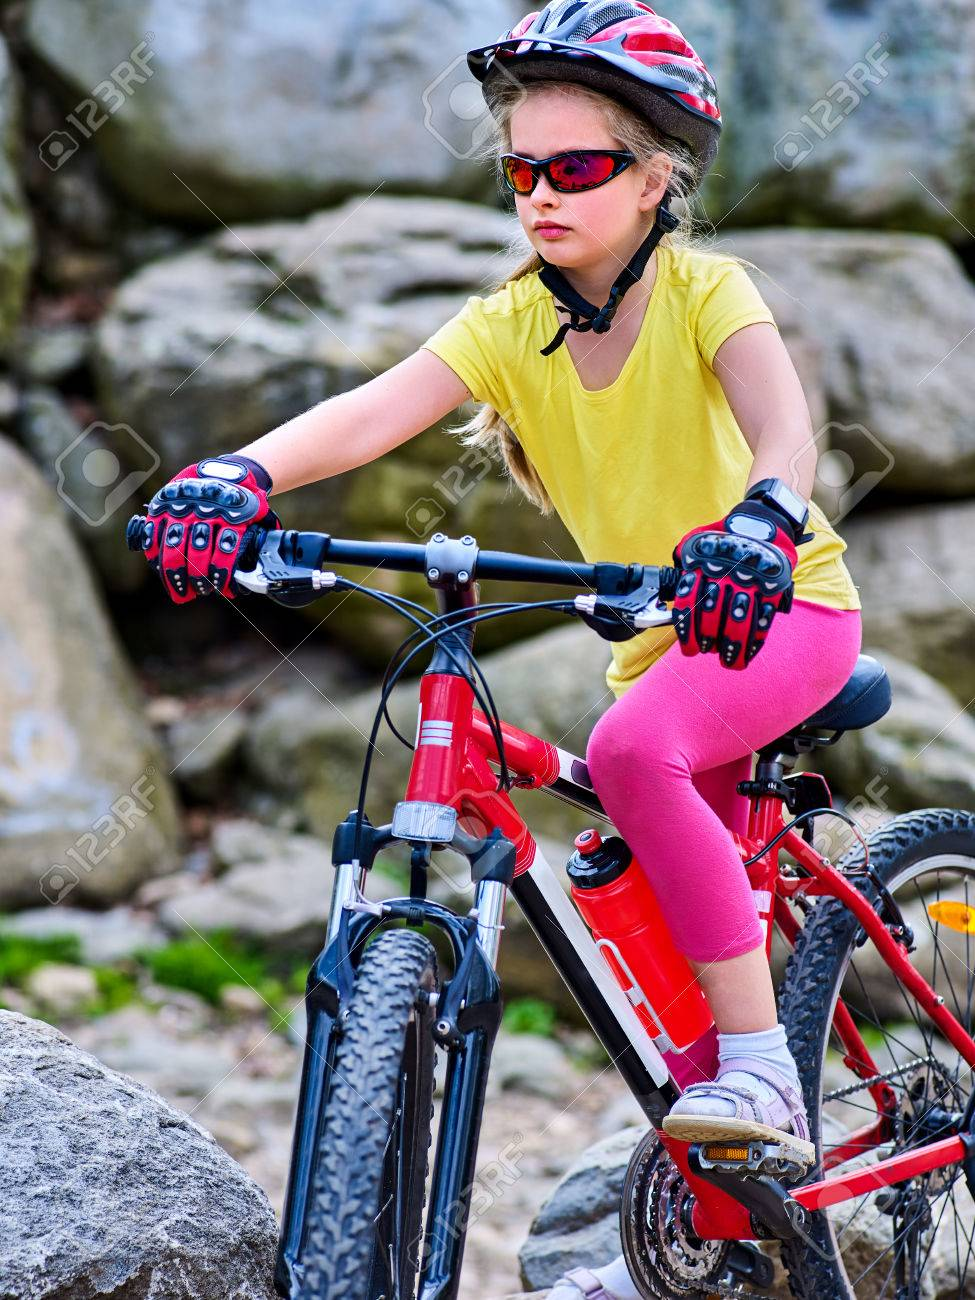helmet: (467, 1, 722, 267)
